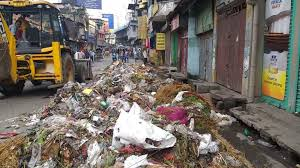garbage: (55, 89, 207, 168), (110, 81, 191, 168), (4, 134, 210, 168), (102, 66, 154, 168)
